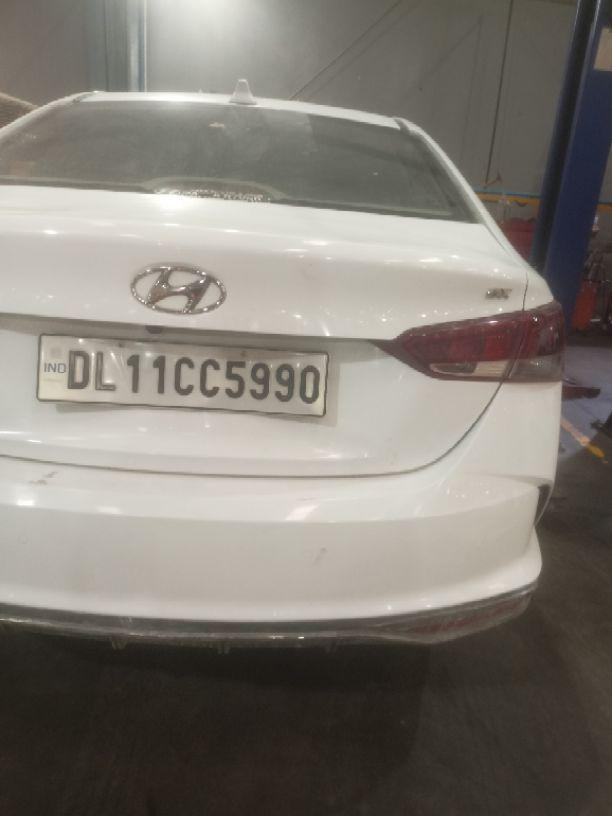license_plate: (35, 332, 329, 417)
